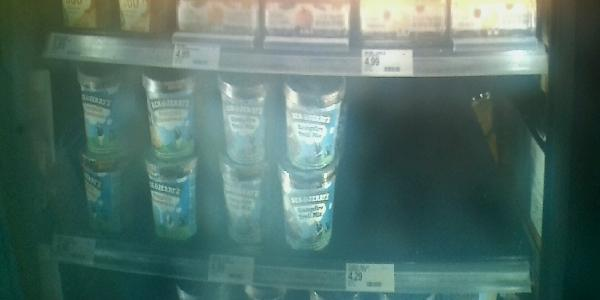icecream1: (277, 75, 347, 170), (70, 152, 142, 240), (140, 69, 206, 160), (213, 166, 278, 253), (214, 75, 276, 165), (280, 168, 337, 265), (71, 67, 135, 152), (144, 159, 204, 242)
